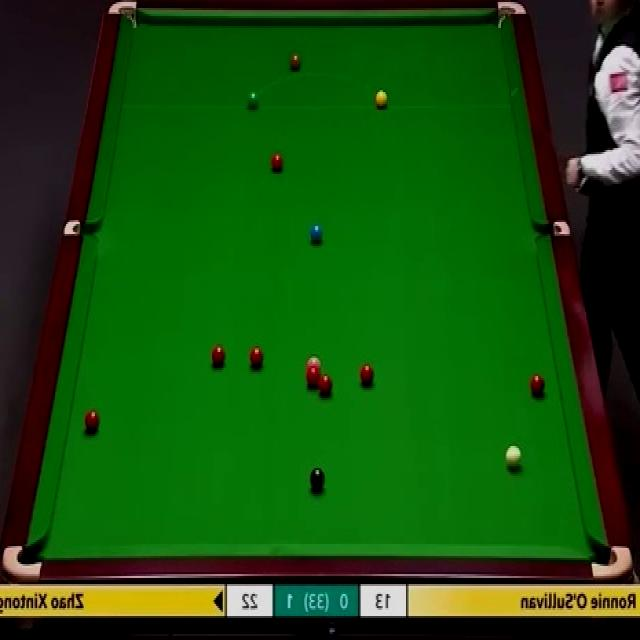black-ball: (308, 465, 326, 493)
blue-ball: (310, 224, 323, 243)
brown-ball: (290, 53, 302, 71)
green-ball: (247, 89, 260, 110)
pink-ball: (305, 354, 322, 372)
red-ball: (83, 408, 102, 431), (529, 372, 545, 399), (270, 149, 284, 174), (359, 365, 375, 386), (211, 344, 226, 366), (249, 346, 264, 368), (318, 375, 332, 397), (306, 370, 322, 387)
white-ball: (504, 442, 524, 471)
yellow-ball: (373, 88, 390, 108)
